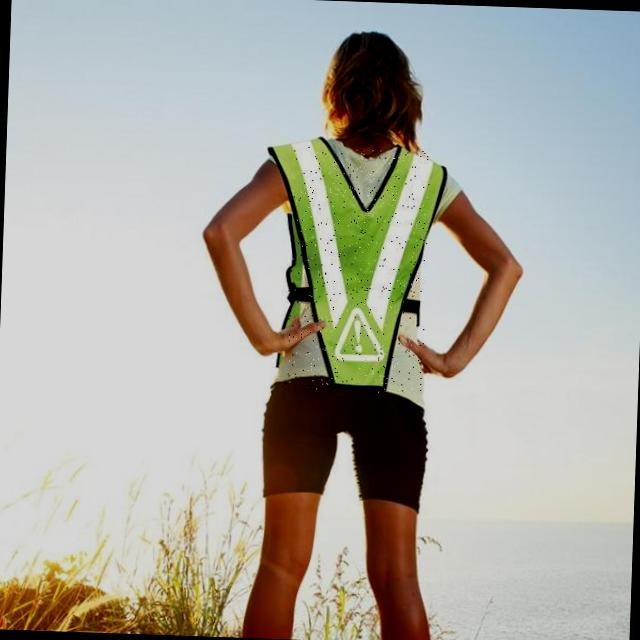vest: (285, 144, 430, 394)
